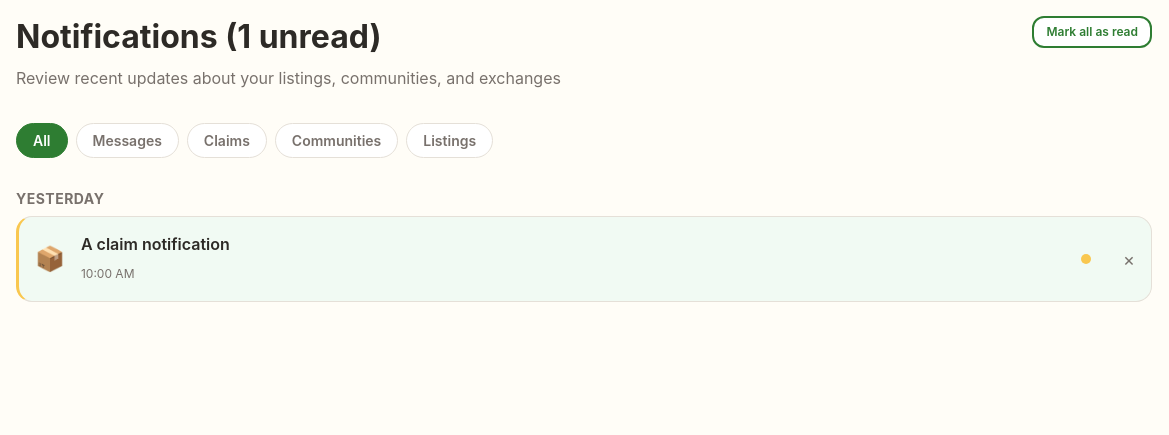
Test: Notifications › filter tabs › shows empty state when filtered to a type with no results
Expected: the text "A claim notification" is shown, top-left (81, 234), bottom-right (230, 254)
Click the button "Messages" at (127, 141), box top-left (76, 123), bottom-right (179, 158)
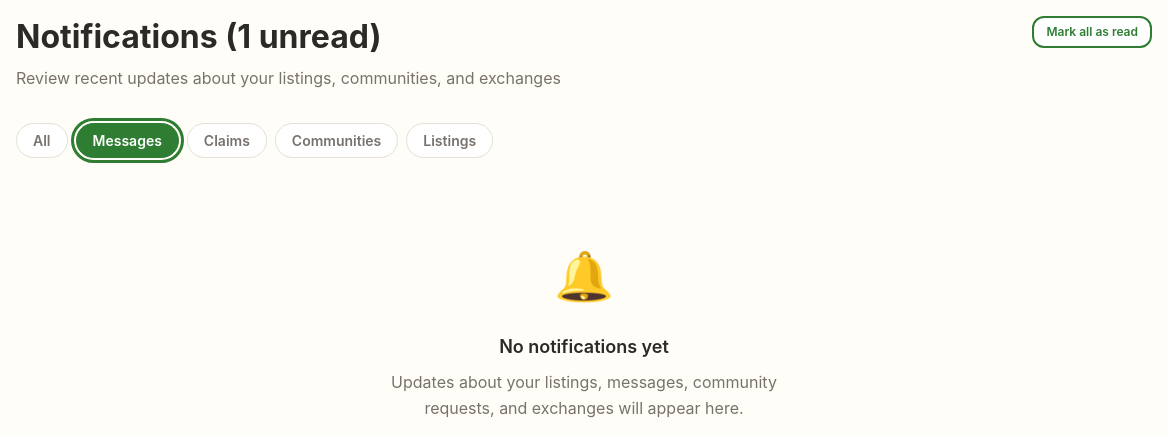
Now the heading "No notifications yet" is shown, box top-left (499, 335), bottom-right (669, 358)
